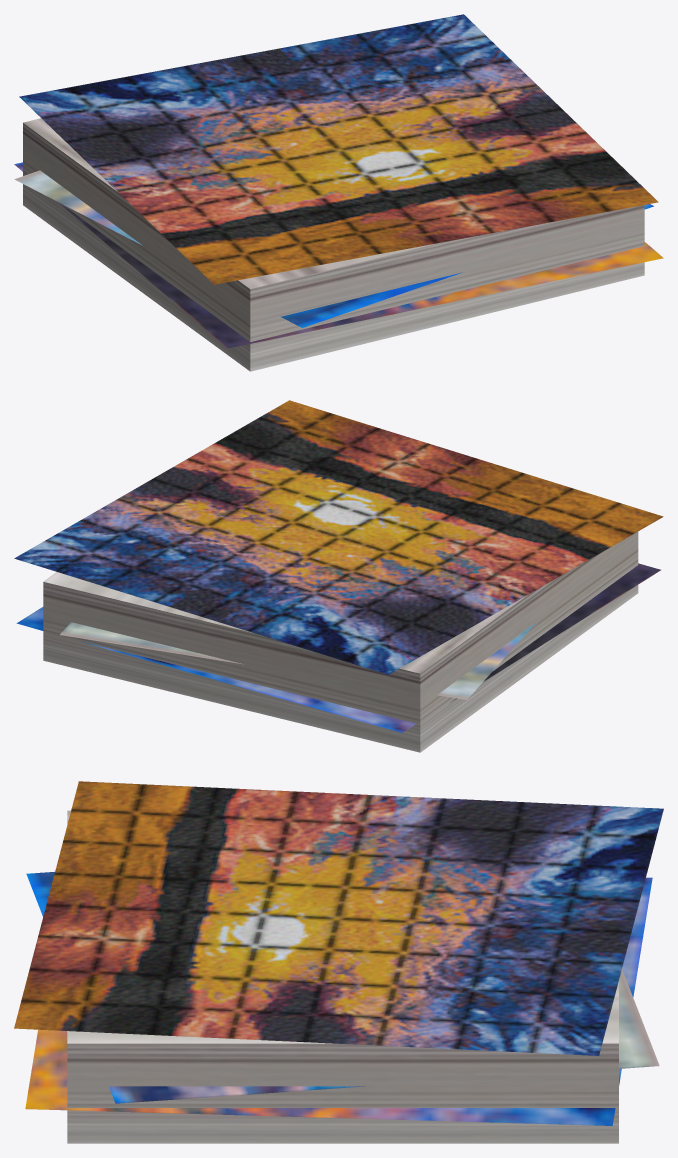
The model's file is BlotterStackM.fbx.
3 renders of one model, top to bottom at view 1: azimuth 30°, elevation 25°; view 2: azimuth 150°, elevation 25°; view 3: azimuth 270°, elevation 25°, orthographic. The views are drawn at different scales.
Visible parts, largest first — view 1: Plane.004; view 2: Plane.004; view 3: Plane.004.
Part boxes in pixels (left/top/right/bottom): Plane.004: left=14, top=14, right=663, bottom=371; Plane.004: left=14, top=400, right=663, bottom=752; Plane.004: left=14, top=781, right=663, bottom=1143.
Bounding box in the file's own units: 0.2 × 0.0375 × 0.2.
